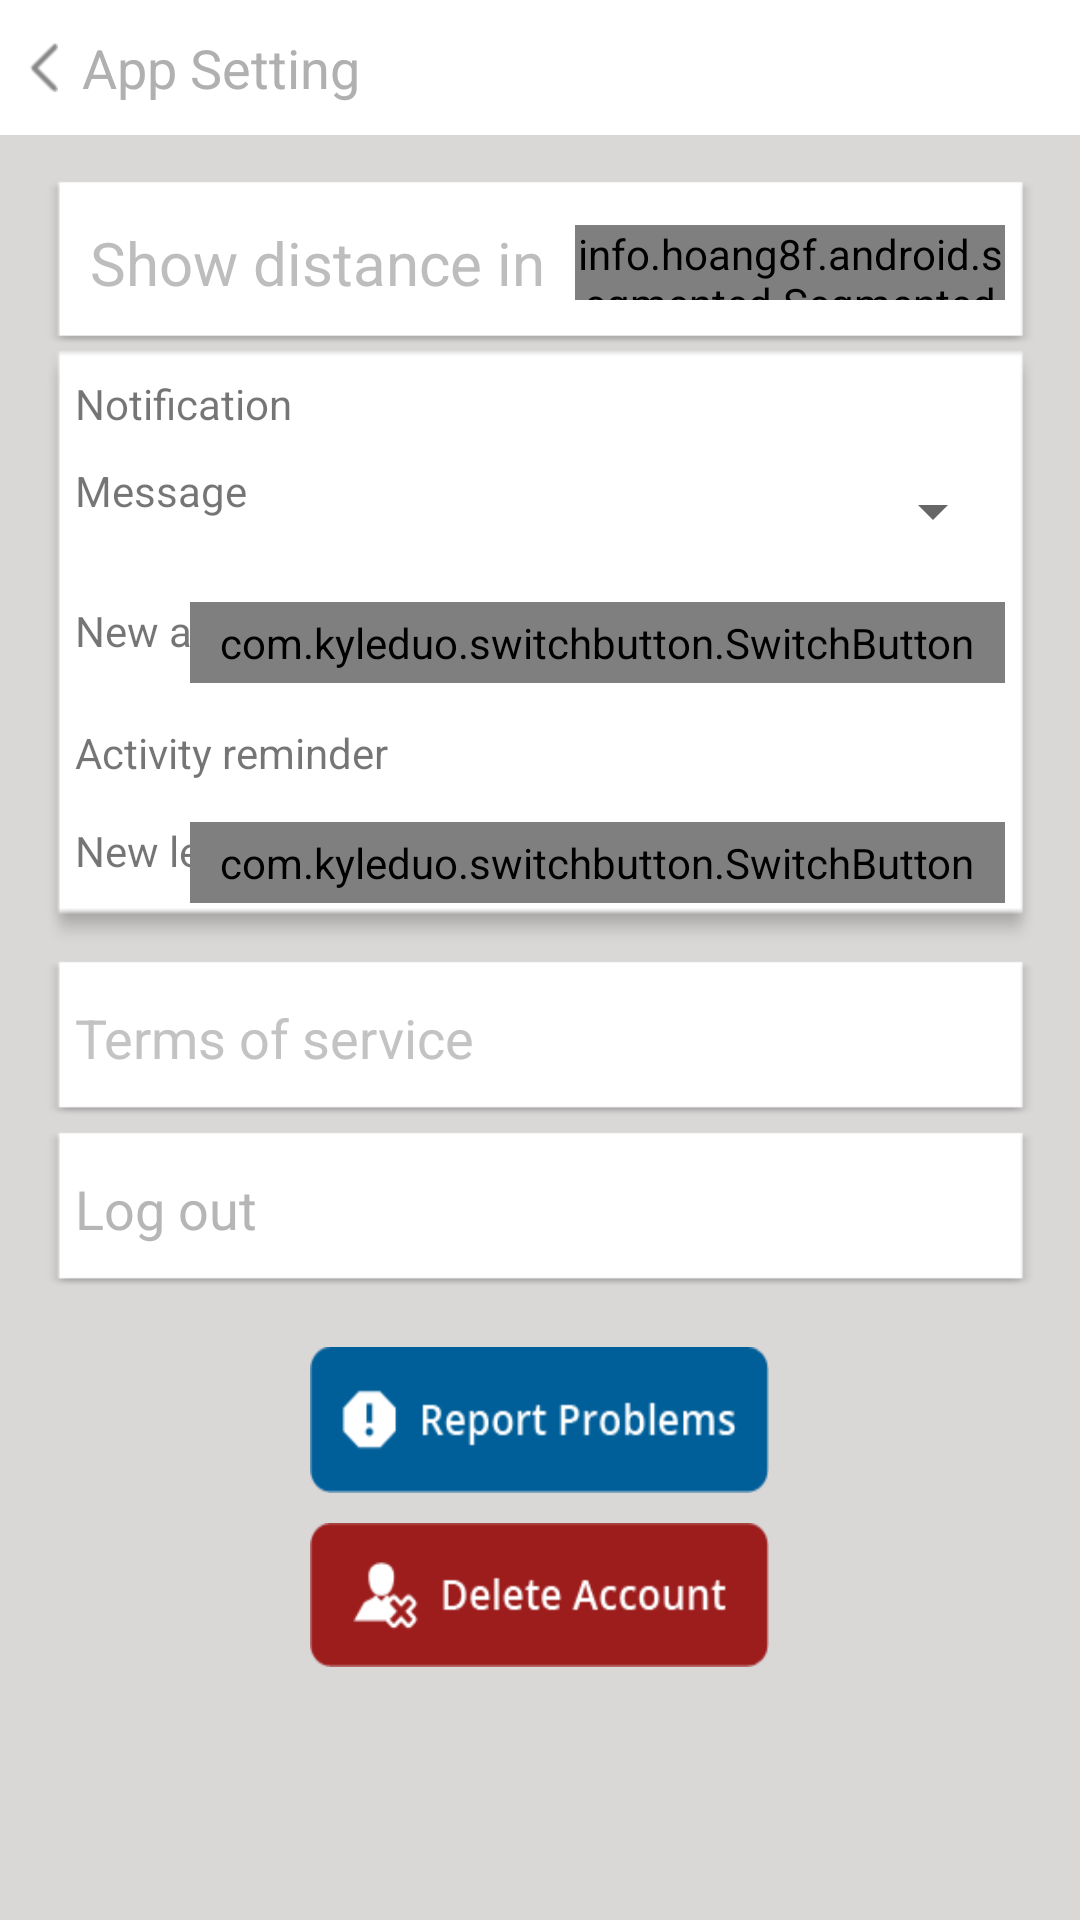

Icon click points for this 1080*1920 phone screenshot, format point (x, y):
grayback: point (44, 67)
